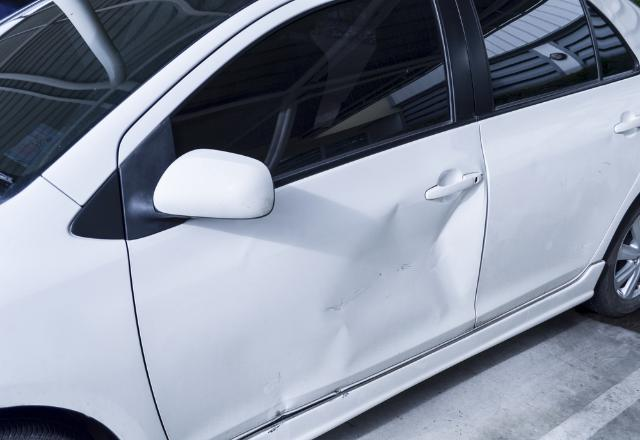dent: (227, 191, 475, 409)
